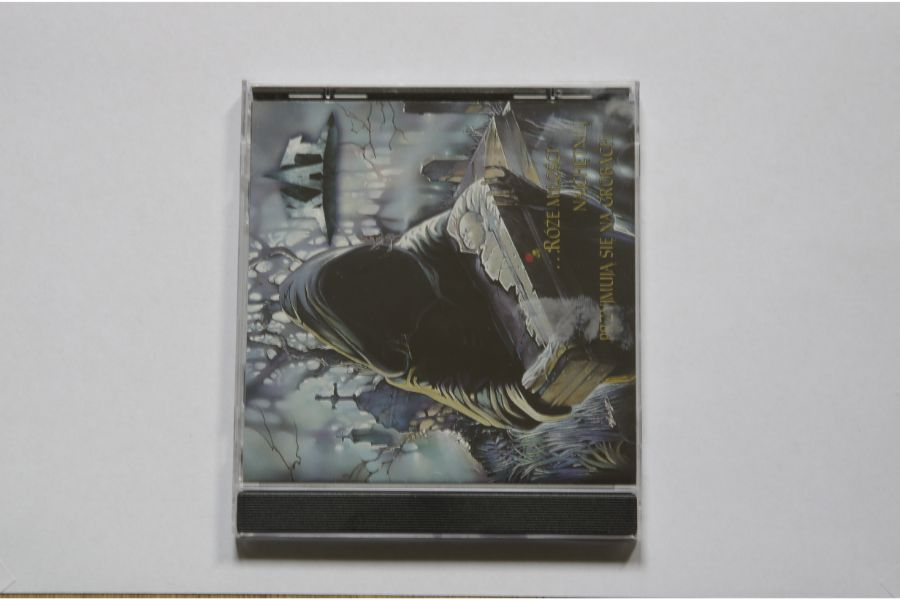album: (226, 78, 641, 542)
